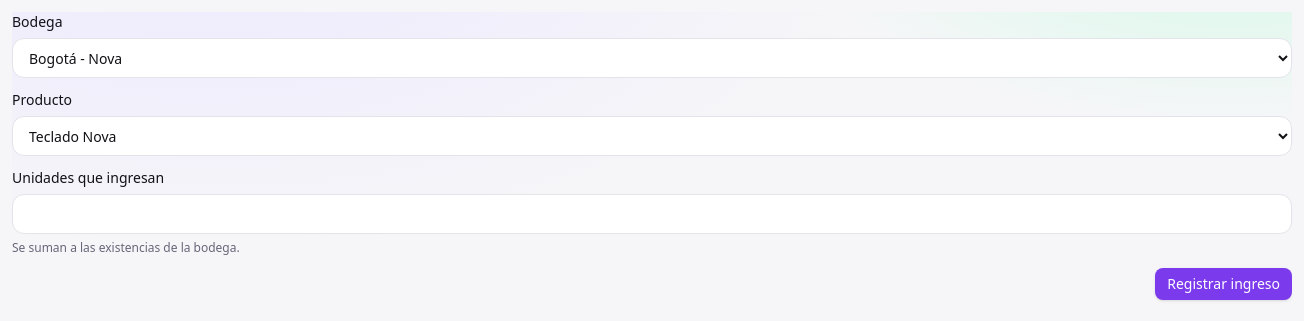
Test: StockForm (ingreso de mercancía) › valida la cantidad antes de llamar al backend
The image size is (1304, 321).
Type "0" into the number field labelled "Unidades que ingresan".
click(652, 214); type("0")  # box [12,194,1292,234]
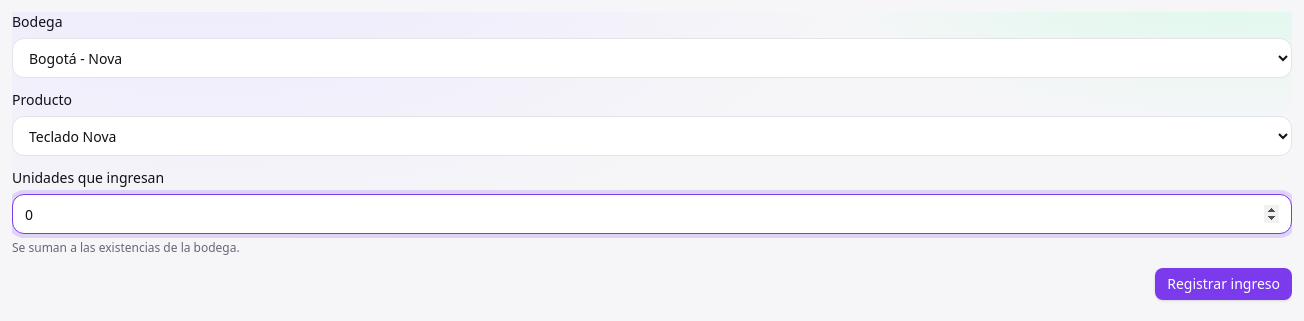
Click the button "Registrar ingreso".
click(1224, 284)  # box [1155,268,1292,300]
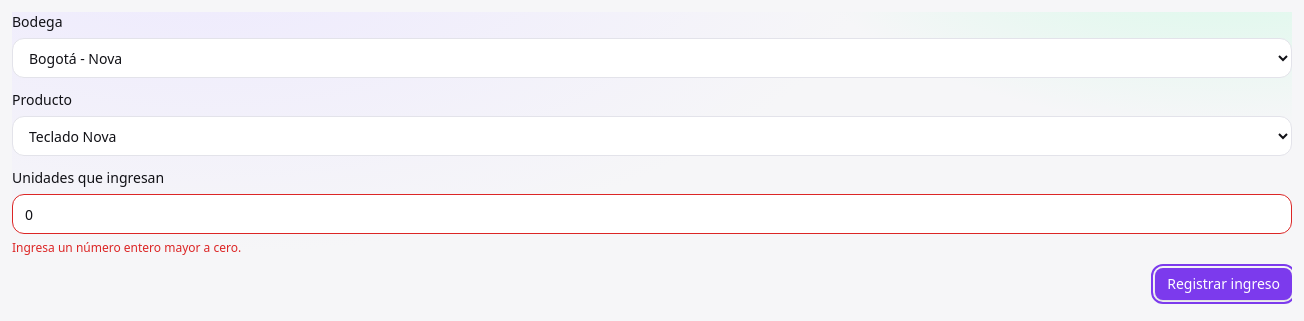
Now the text "Ingresa un número entero mayor a cero." is shown, box [12,239,241,256]
